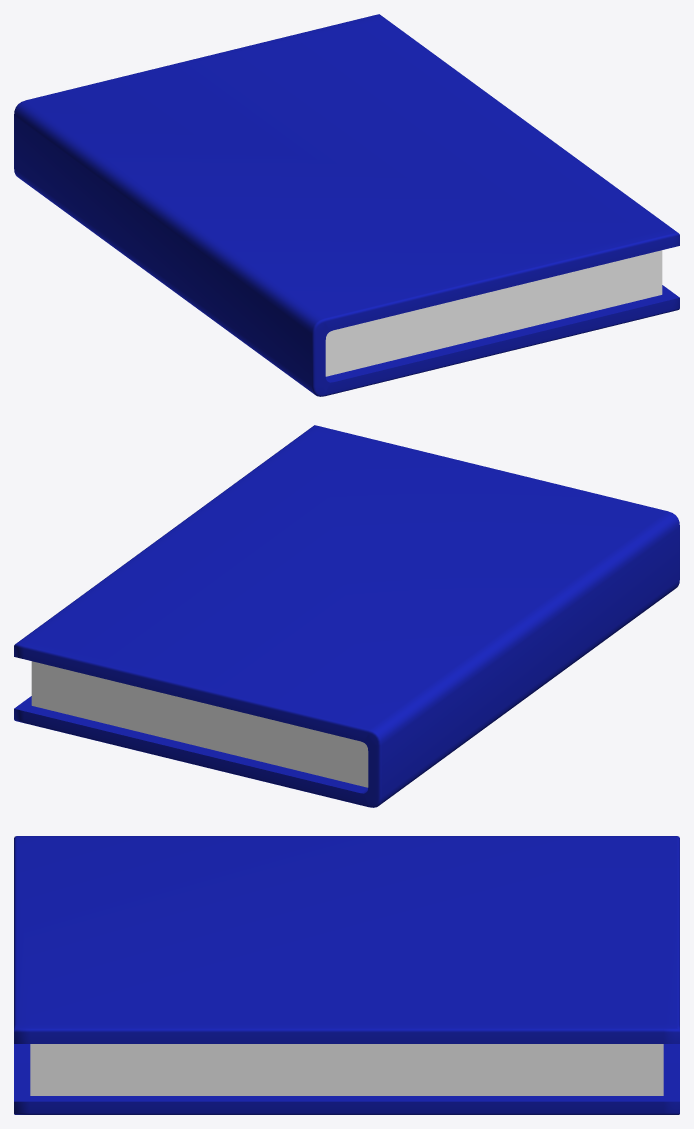
Rendered from A_NJ_Book_002.fbx.
3 views of the same model, one above another, from view 1: azimuth 30°, elevation 25°; view 2: azimuth 150°, elevation 25°; view 3: azimuth 270°, elevation 25° (orthographic). The views are drawn at different scales.
Visible parts, largest first — view 1: Book; view 2: Book; view 3: Book.
Part boxes in pixels (<box>): Book: <box>14,14,679,396</box>; Book: <box>14,425,679,807</box>; Book: <box>14,836,679,1114</box>.
Size of the model in its own units: 14.8 by 3 by 21.
